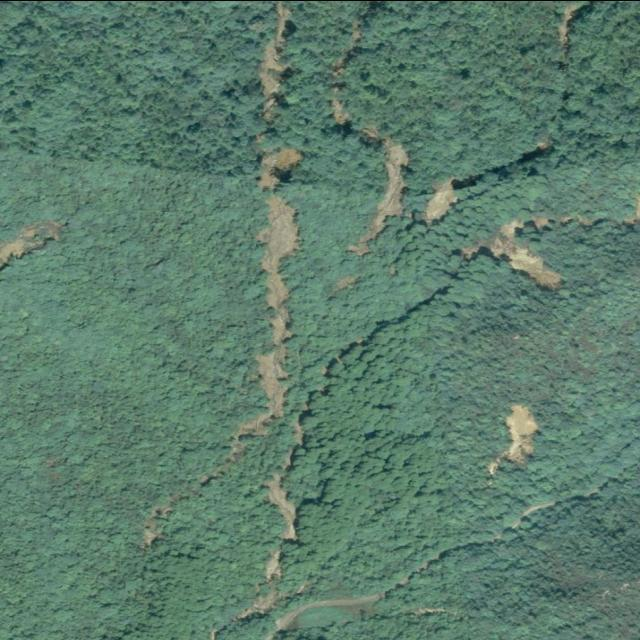landslide: (233, 193, 299, 453), (349, 137, 409, 254), (487, 220, 562, 288), (260, 147, 303, 191), (262, 53, 284, 110), (427, 179, 456, 218)
